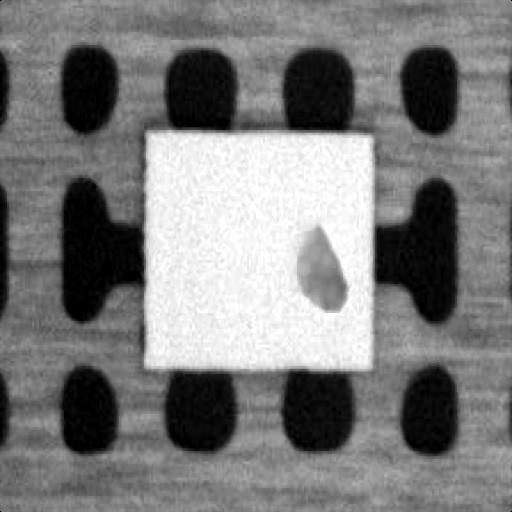DIE_INK: (425, 139, 512, 216)
